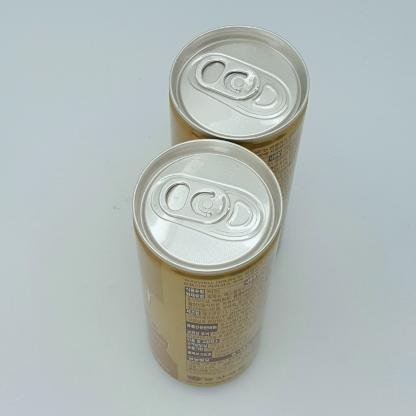-----------------240ML: (132, 138, 283, 387)
